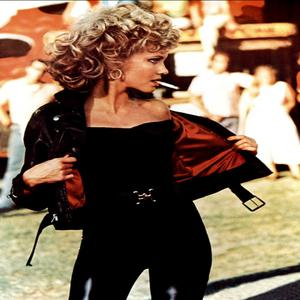cigarette: (156, 81, 181, 92)
